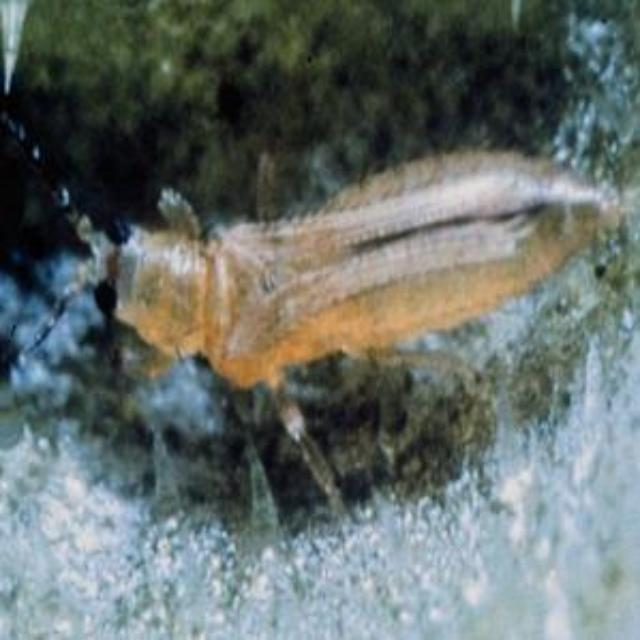melon thrips: (16, 79, 620, 541)
